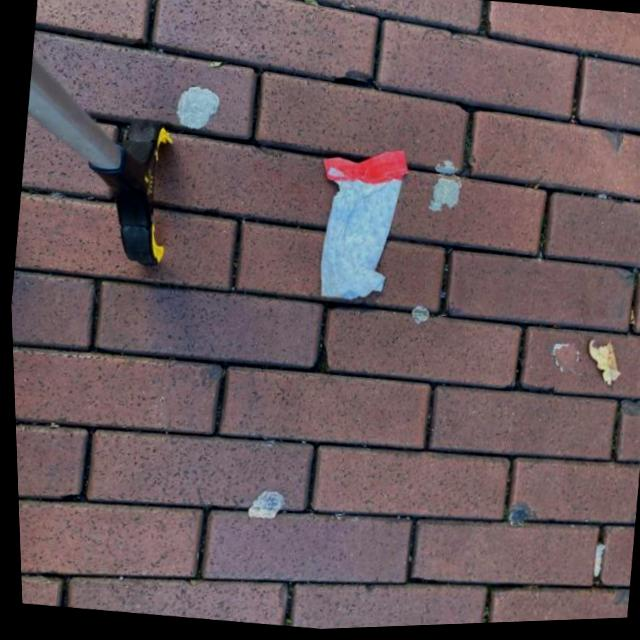Paper: (300, 140, 415, 311)
